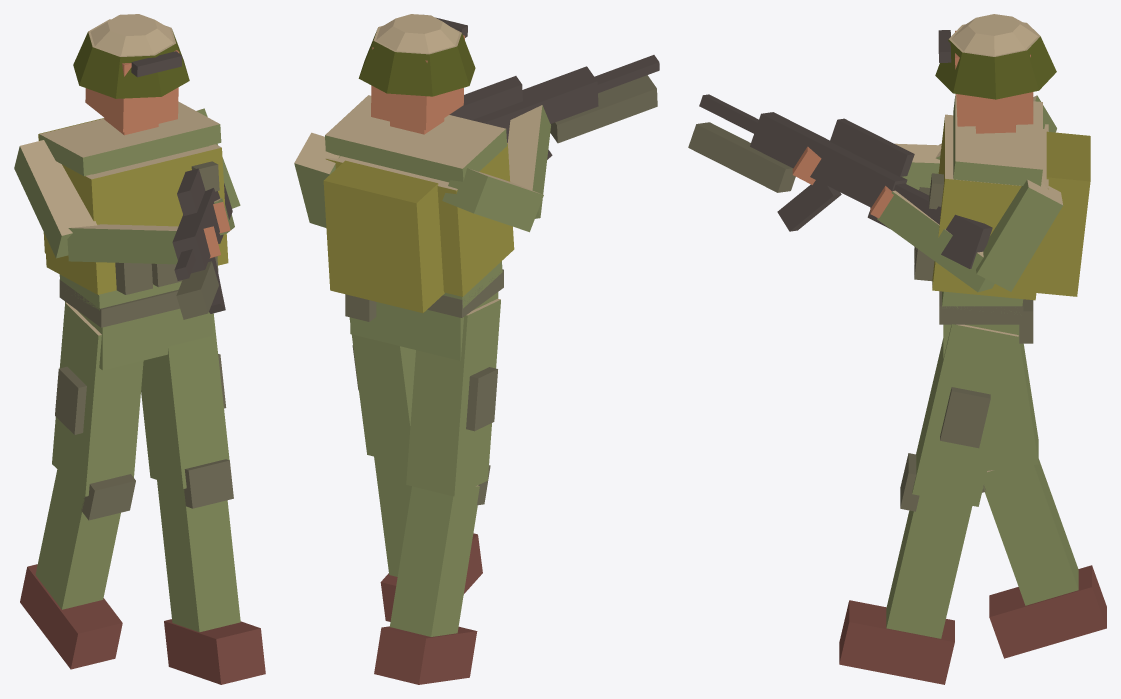
The model's file is SM_SoldadoArmado_v1_G36E_AG36_Apuntando_LOD0.fbx.
The picture shows the model from 3 angles, left to right: view 1: azimuth 30°, elevation 25°; view 2: azimuth 150°, elevation 25°; view 3: azimuth 270°, elevation 25°; orthographic projection.
Visible parts, largest first — view 1: SM_bloques.soldado_armado_v1_LOD0; view 2: SM_bloques.soldado_armado_v1_LOD0; view 3: SM_bloques.soldado_armado_v1_LOD0.
Part boxes in pixels (left/top/right/bottom): SM_bloques.soldado_armado_v1_LOD0: left=14, top=14, right=265, bottom=684; SM_bloques.soldado_armado_v1_LOD0: left=294, top=14, right=659, bottom=684; SM_bloques.soldado_armado_v1_LOD0: left=688, top=14, right=1106, bottom=684.
Size of the model in its own units: 0.5789 by 1.77 by 1.05.
